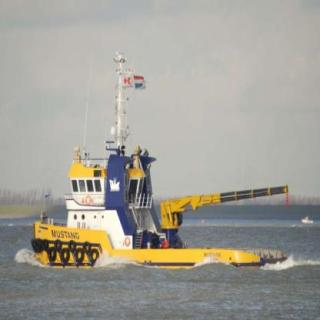Tug Boat: (26, 124, 290, 265)
